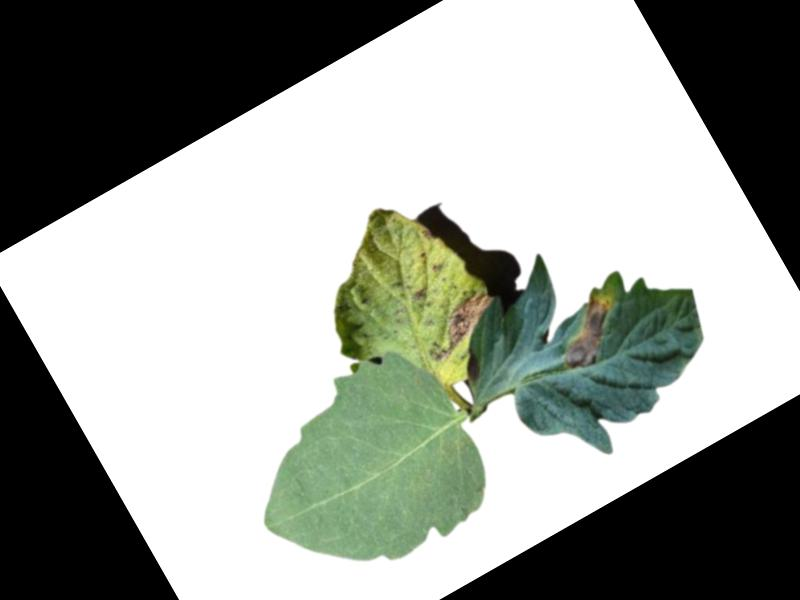Early_blight: (539, 285, 637, 377), (408, 281, 508, 365), (408, 282, 435, 307), (427, 257, 445, 275), (418, 225, 435, 243)
healthy: (219, 332, 512, 600)
